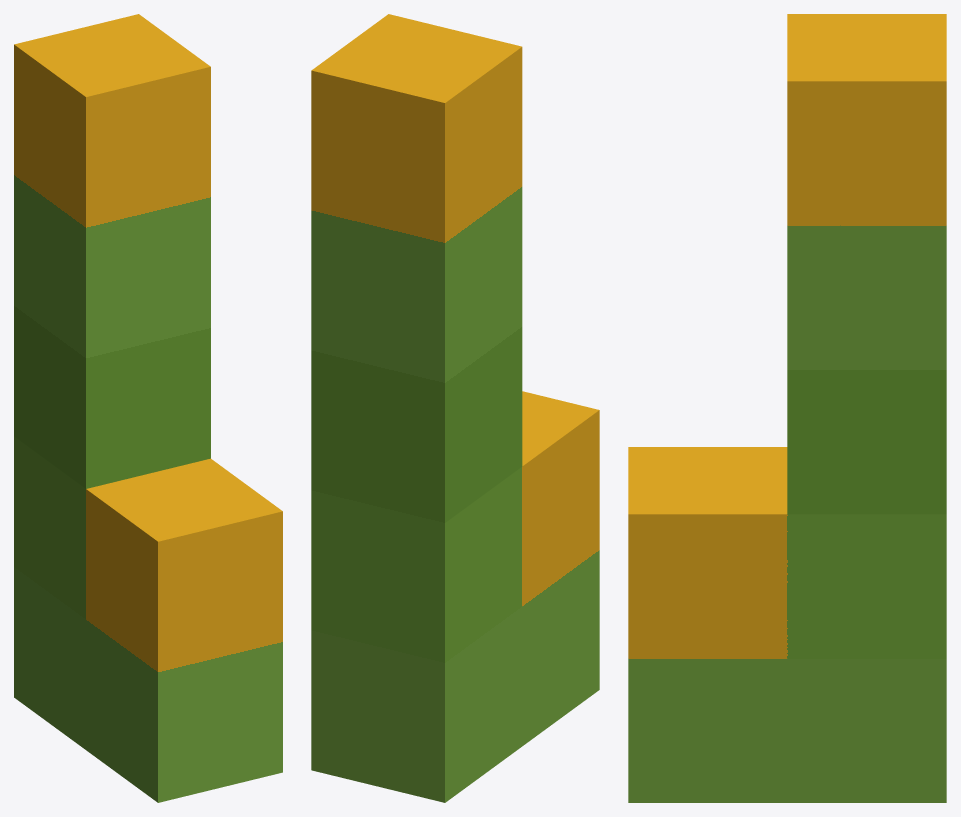
File: flowers_2.fbx
3 views of the same model, side by side, from view 1: azimuth 30°, elevation 25°; view 2: azimuth 150°, elevation 25°; view 3: azimuth 270°, elevation 25° (orthographic). The views are drawn at different scales.
Parts seen in each view (by area): view 1: flowers_2; view 2: flowers_2; view 3: flowers_2.
Boxes of the visible parts, <box> form: flowers_2: <box>14,14,282,802</box>; flowers_2: <box>311,14,599,802</box>; flowers_2: <box>628,14,946,802</box>.
Size of the model in its own units: 1 by 5 by 2.
1 material, 1 textured.
